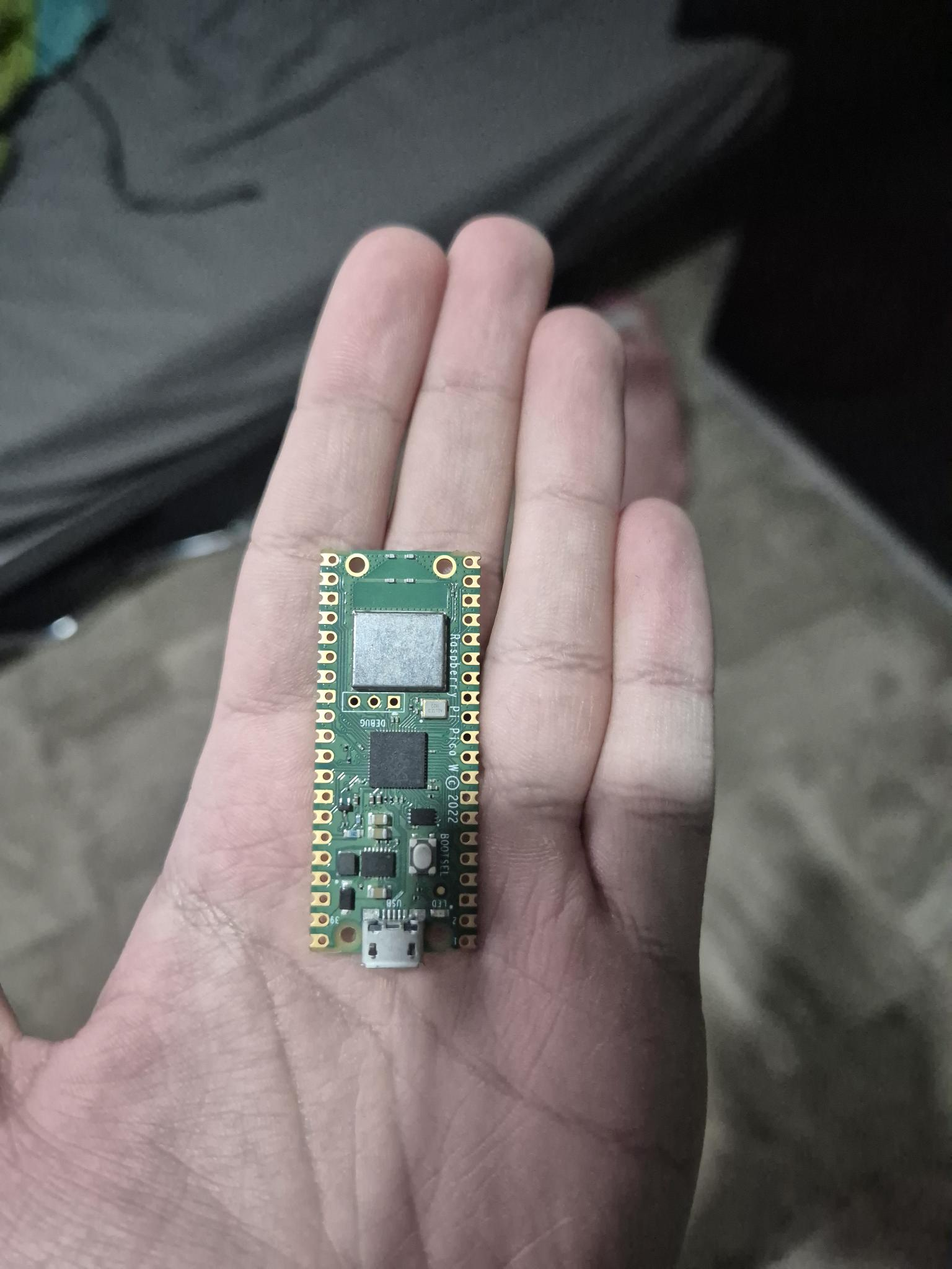raspberry-pi-pico-w: (310, 550, 480, 969)
